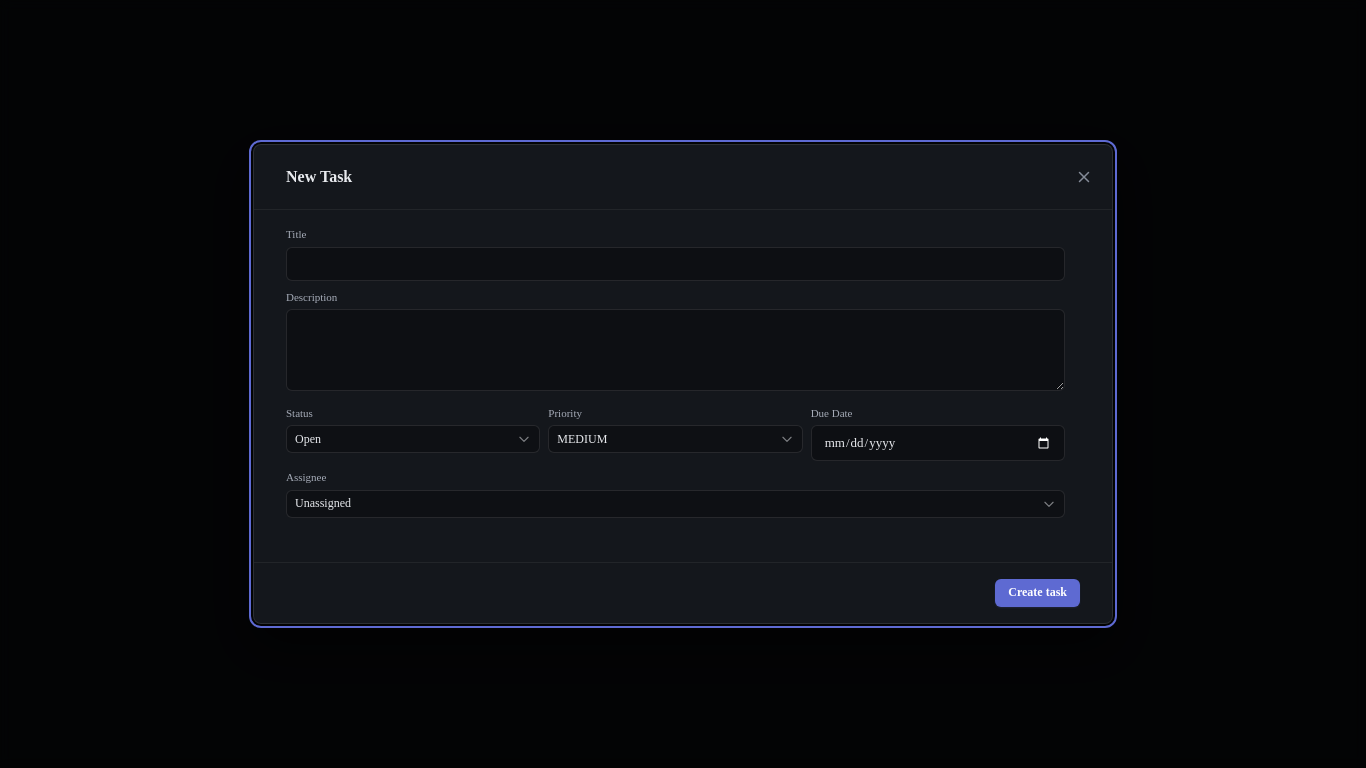
Test: NewTaskModal -- Assignee guard while status is backlog › resets a stale 'me' pick back to unassigned when switching from Open to Backlog
Click the dropdown named "Assignee".
click(323, 503)  # box top-left (286, 490), bottom-right (1065, 518)
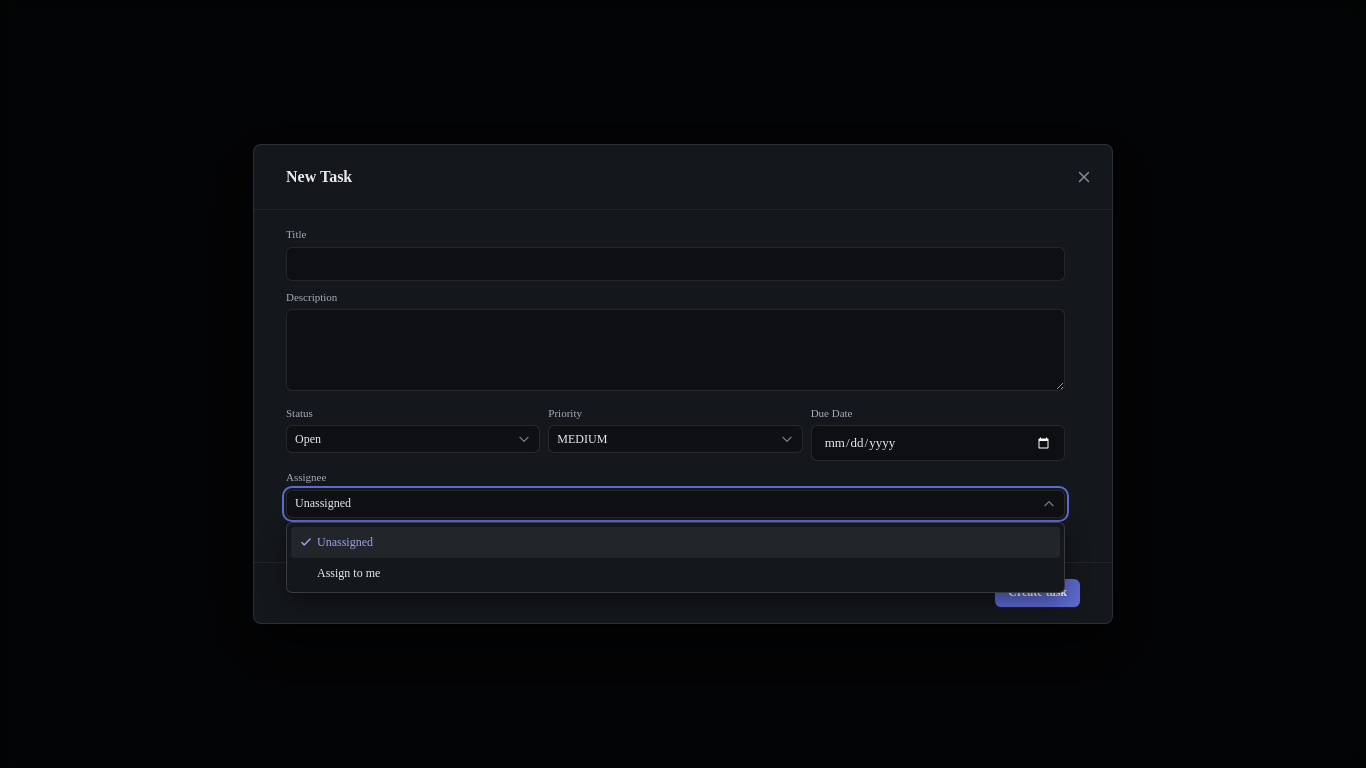
Click the option "Assign to me".
click(349, 573)  # box top-left (317, 566), bottom-right (380, 580)
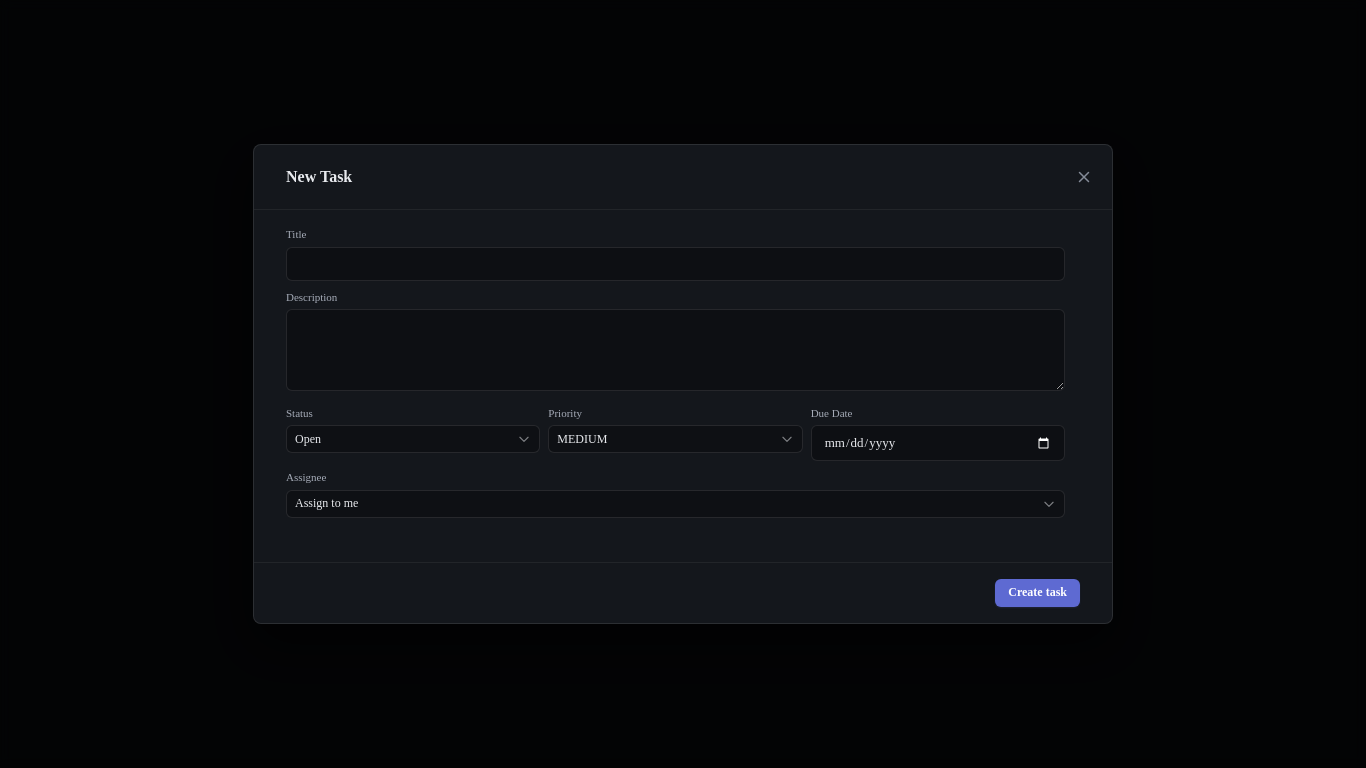
Check: the dropdown named "Assignee" reads "Assign to me", box top-left (286, 490), bottom-right (1065, 518)
Click the dropdown named "Status".
click(413, 439)  # box top-left (286, 425), bottom-right (540, 453)
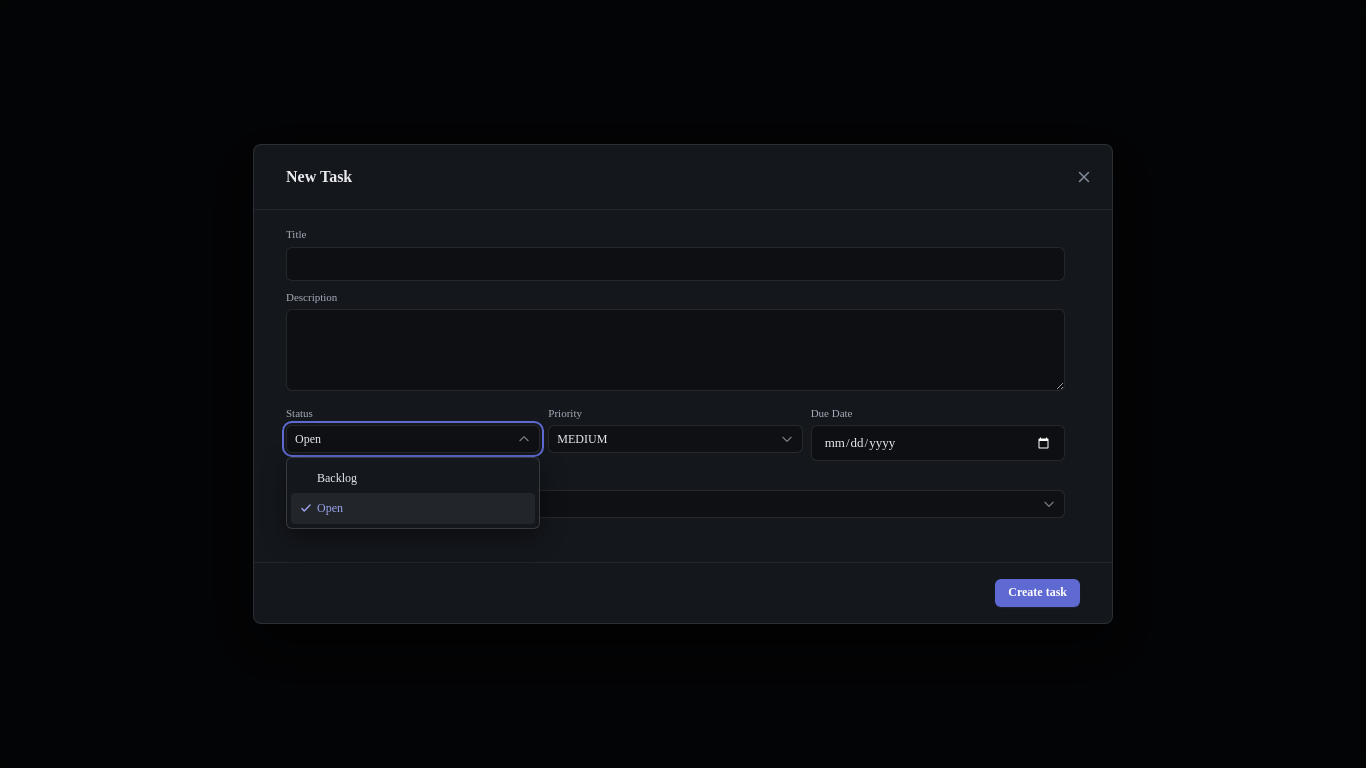
Click the option "Backlog".
click(337, 478)  # box top-left (317, 471), bottom-right (357, 485)
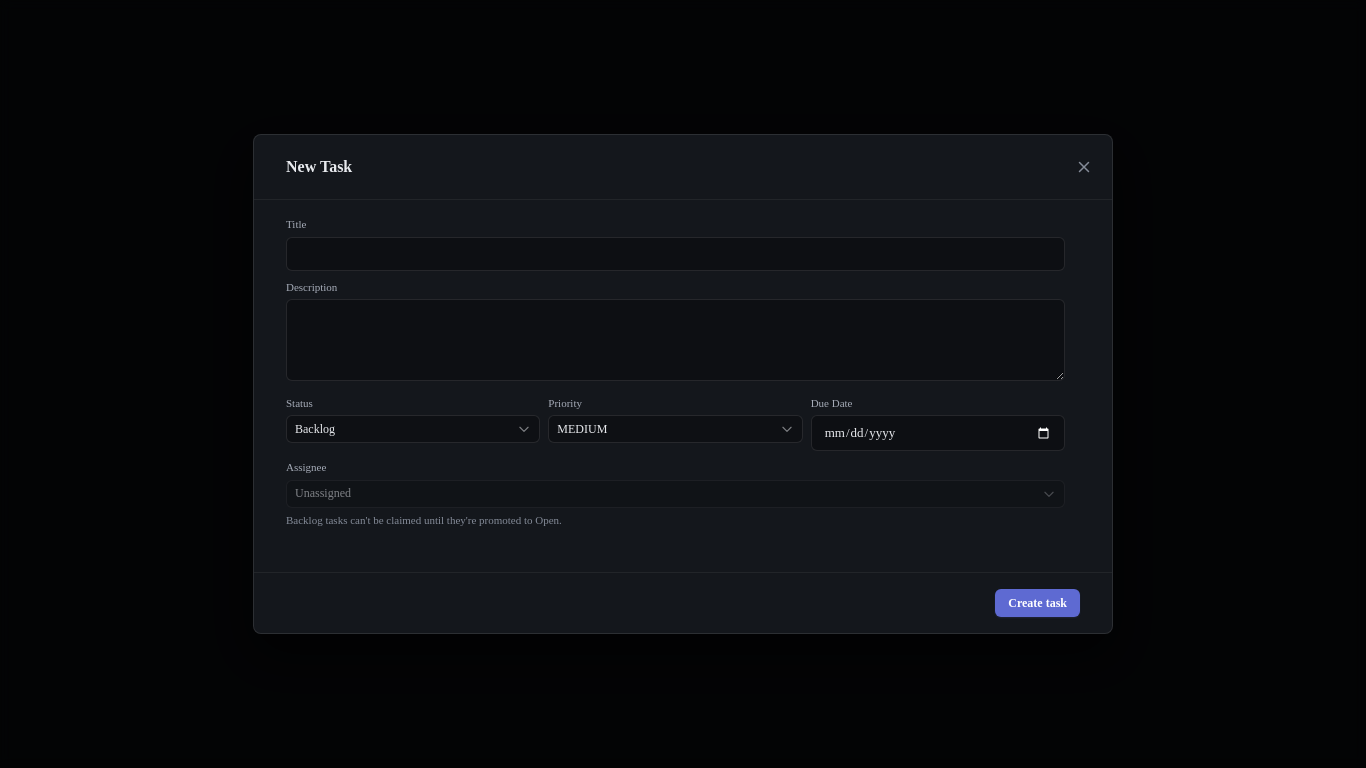
Check: the dropdown named "Assignee" reads "Unassigned", box top-left (286, 480), bottom-right (1065, 508)
